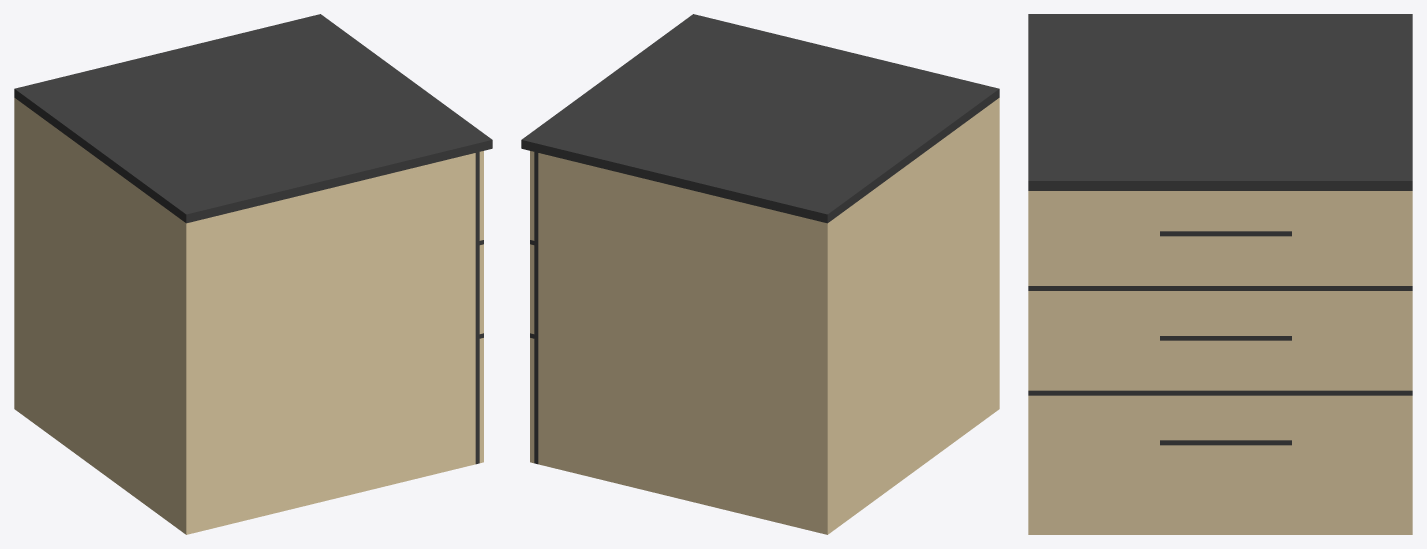
The model's file is commode.obj.
The picture shows the model from 3 angles, left to right: view 1: azimuth 30°, elevation 25°; view 2: azimuth 150°, elevation 25°; view 3: azimuth 270°, elevation 25°; orthographic projection. The views are drawn at different scales.
Bounding box in the file's own units: 7.2 × 7.2 × 7.
Materials: 1 (1 with a texture image).
